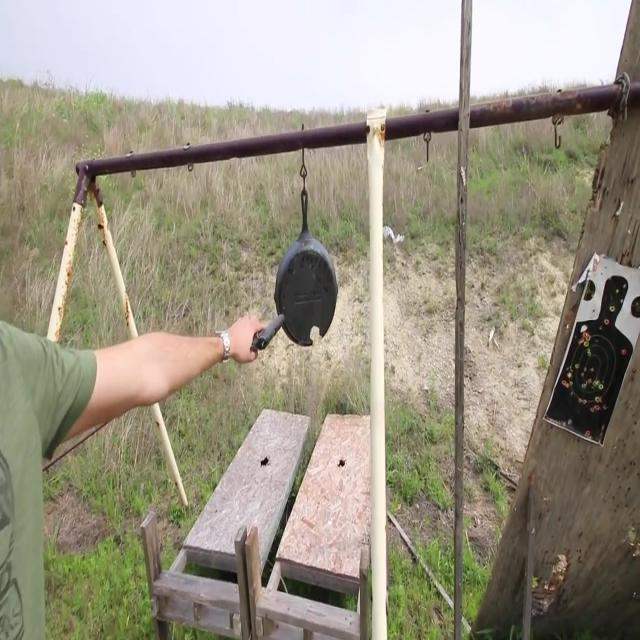Weapon: (231, 260, 313, 400), (286, 138, 287, 140)
